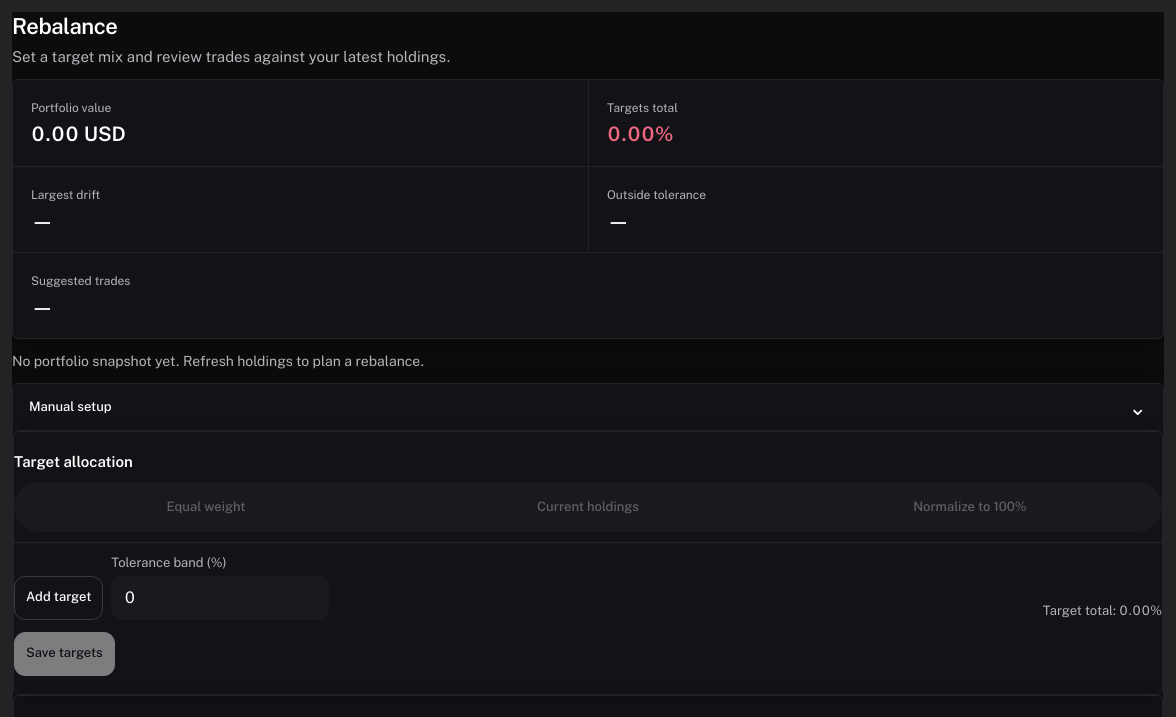
Test case: Rebalance page › shows an empty holdings state and allows a target draft
The width and height of the screenshot is (1176, 717).
Expected: the text "No portfolio snapshot yet. Refresh holdings to plan a rebalance." is shown, x1=12 y1=353 x2=424 y2=369
What coordinates should you click on to do the following:
click the button "Add target"
I would click on:
 (59, 598)
Its box is x1=14 y1=576 x2=103 y2=620.
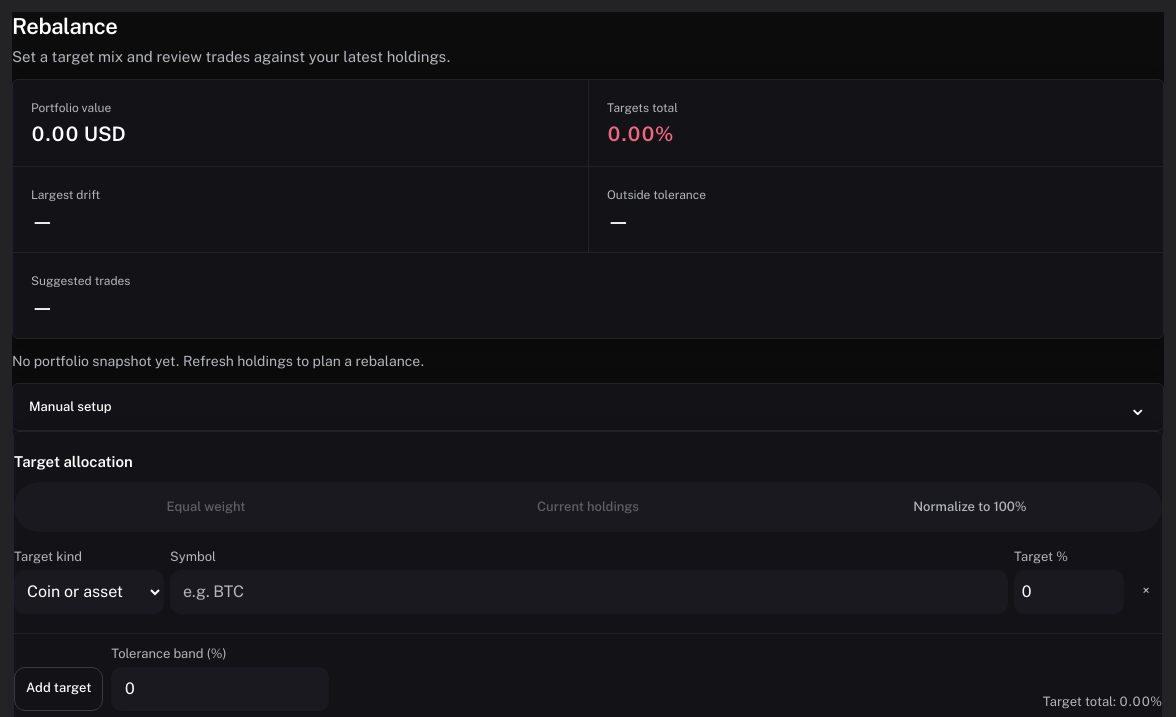
Now the number field named "Target percentage for Coin or asset" is shown, box x1=1014 y1=570 x2=1124 y2=614
